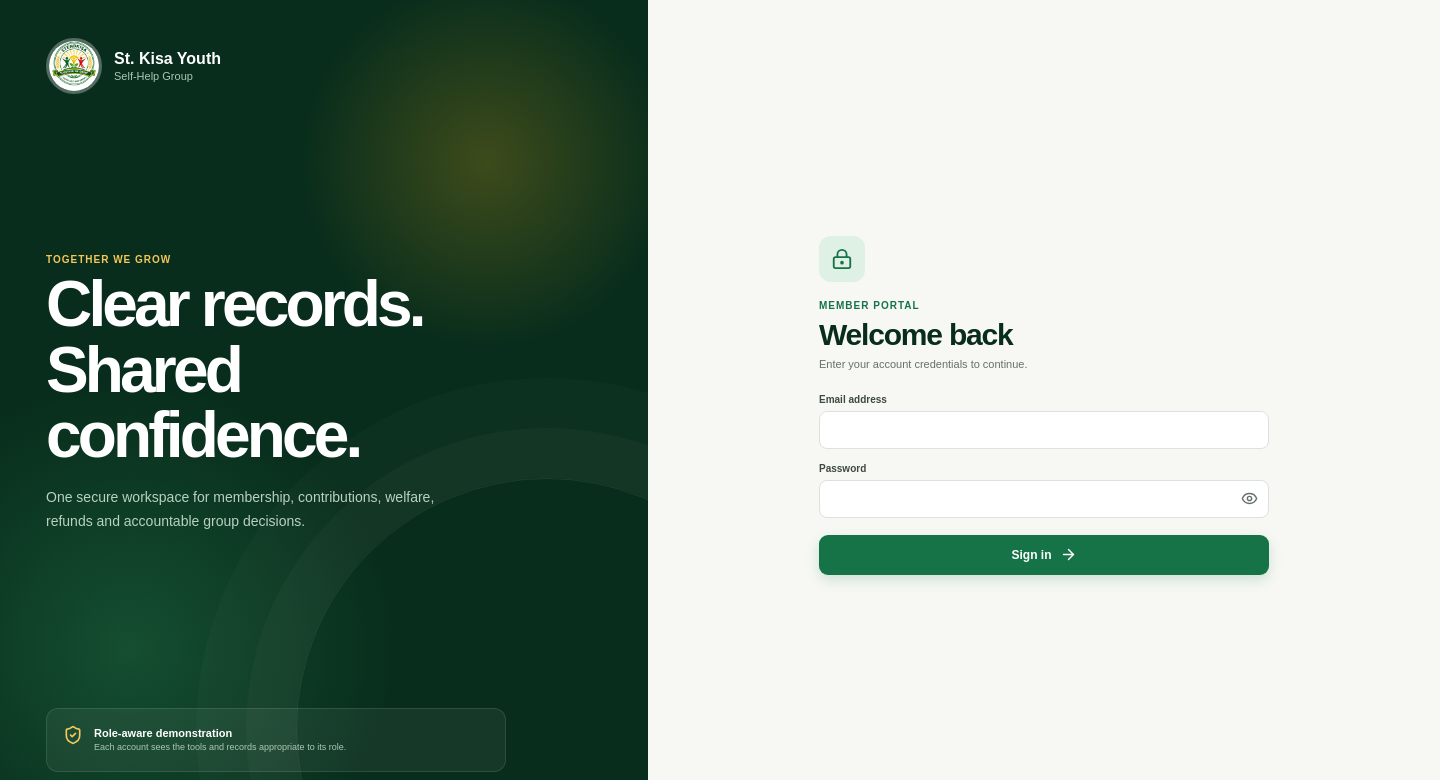
Test: St. Kisa member portal › renders the /statements workspace
Type "admin@stkisa.org" into the field labelled "Email address" at (1044, 430), box x1=819 y1=410 x2=1269 y2=448
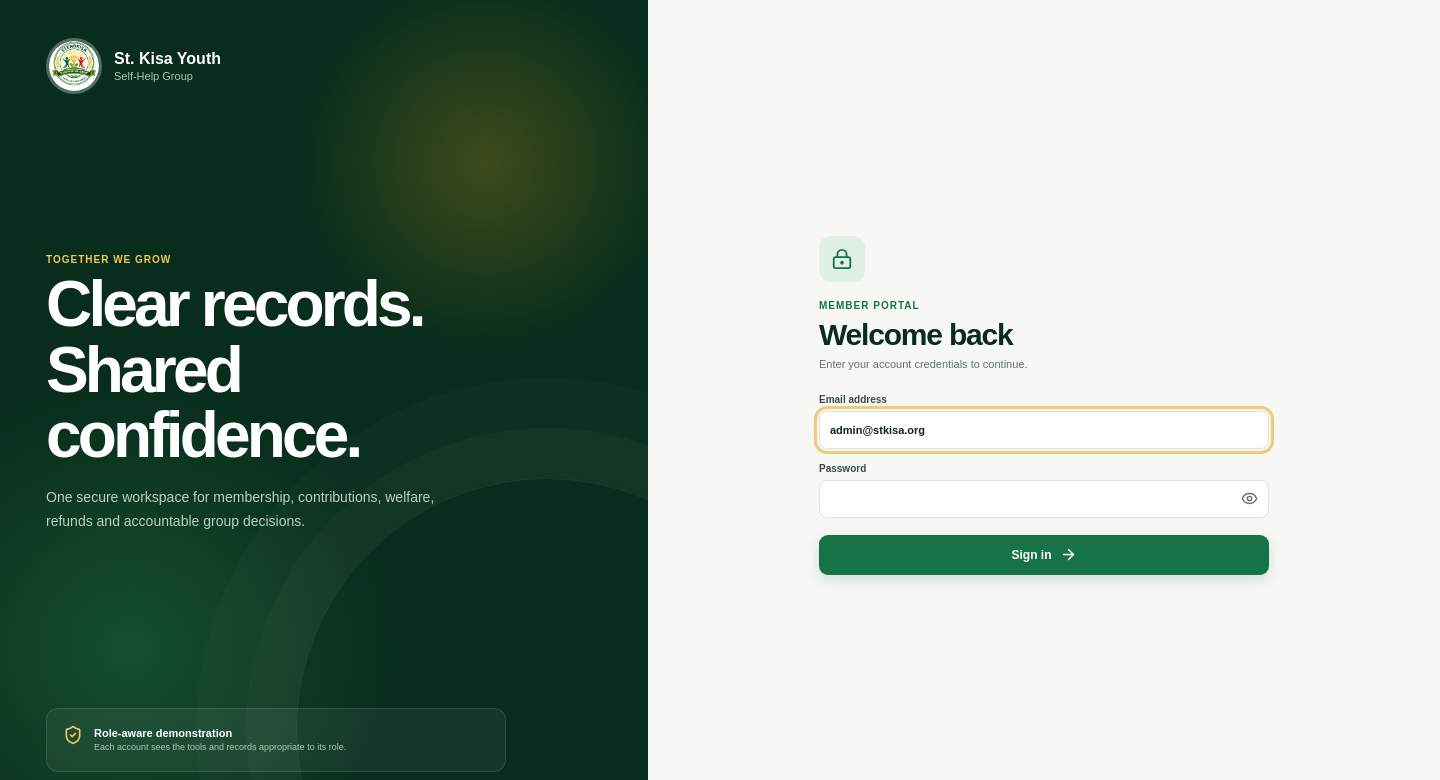
Type "Demo@2026" into the password field labelled "Password" at (1044, 498), box x1=819 y1=480 x2=1269 y2=518
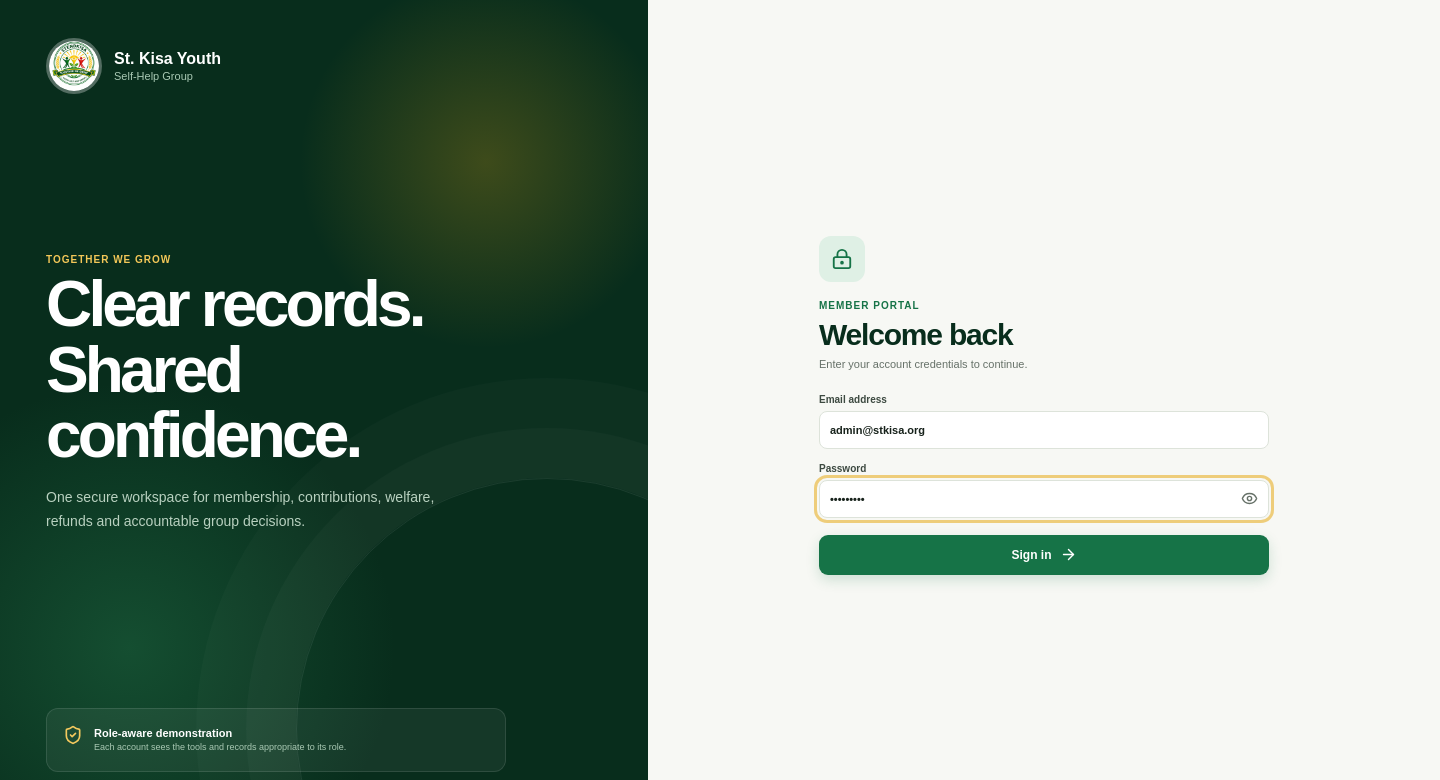
Click the button "Sign in" at (1044, 554), box x1=819 y1=534 x2=1269 y2=574
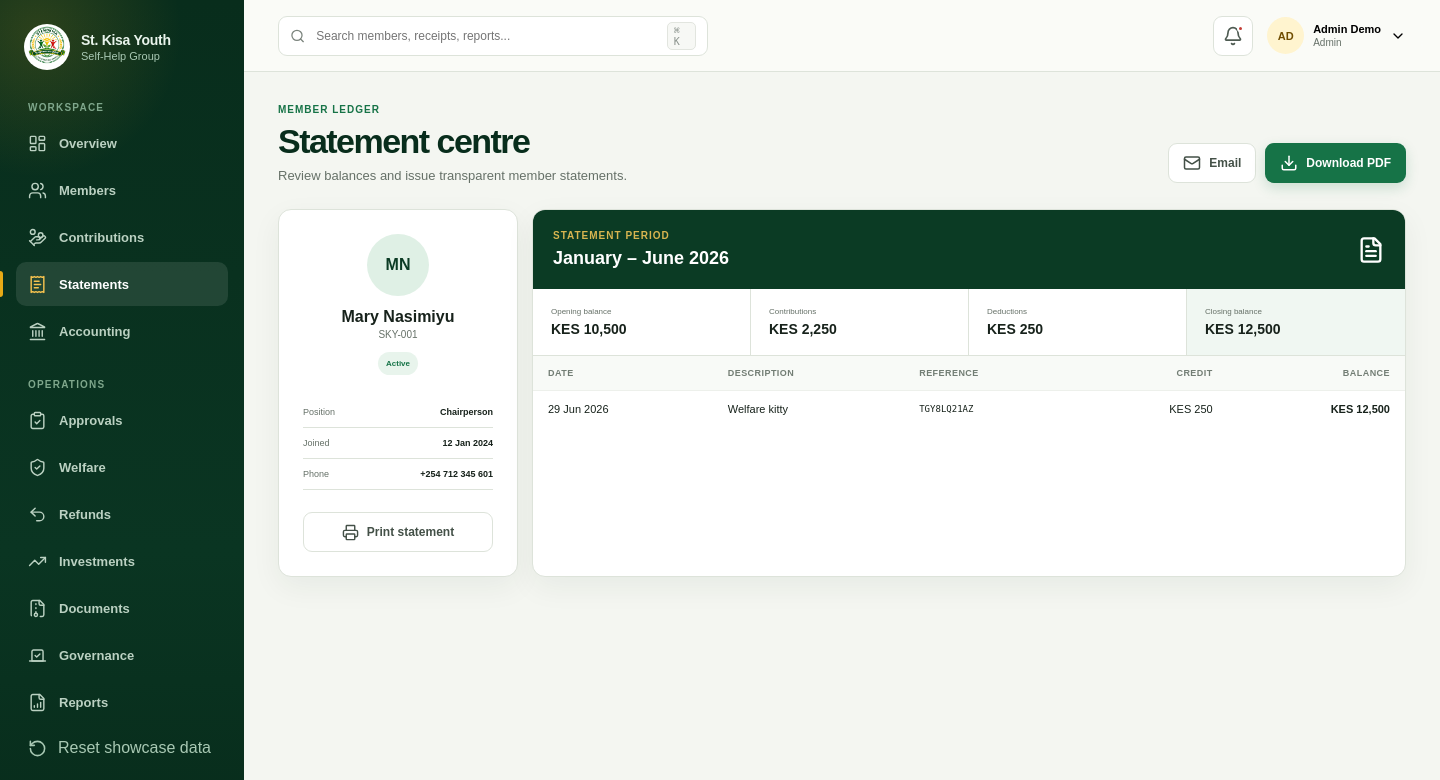
Expected: the heading "Statement centre" is shown, x1=278 y1=122 x2=529 y2=160
